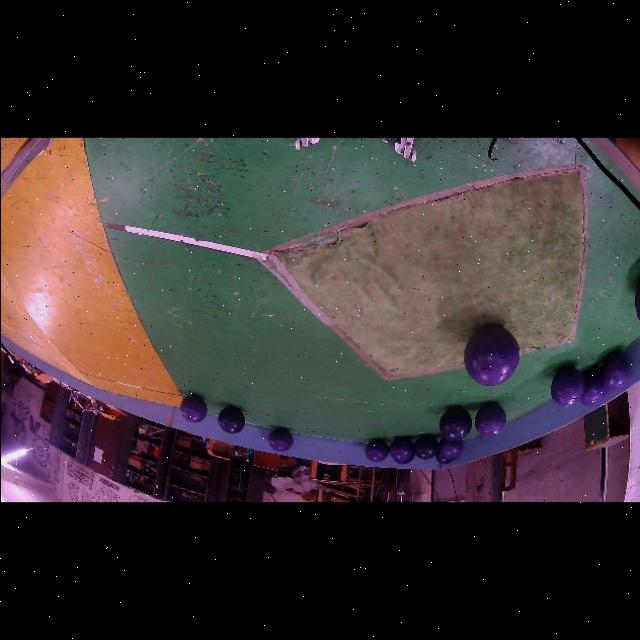B: (438, 406, 471, 439), (217, 405, 244, 433), (412, 434, 438, 458), (634, 279, 640, 322), (434, 450, 453, 463)
P: (463, 324, 519, 385), (550, 365, 583, 406), (601, 351, 629, 390), (474, 403, 506, 435), (578, 368, 604, 405), (179, 394, 206, 422), (268, 427, 292, 451), (388, 437, 412, 461), (364, 438, 388, 461), (438, 437, 462, 457)
